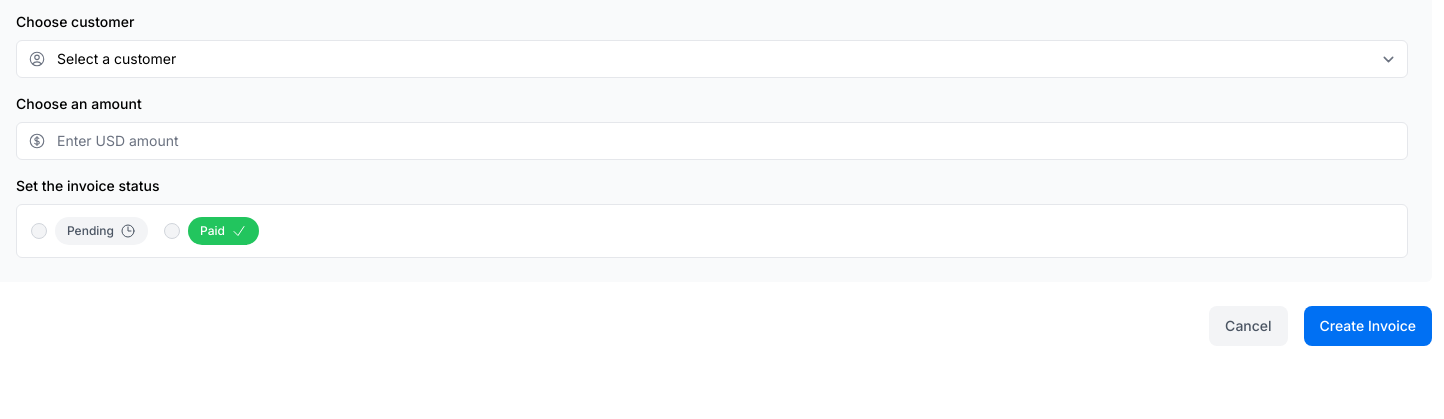
it: Form › Choose an amount 入力欄に 0 を入力したときのエラーを確認する
Select "foo" in the dropdown labelled "Choose customer": [712, 59] box [16,40,1408,78]
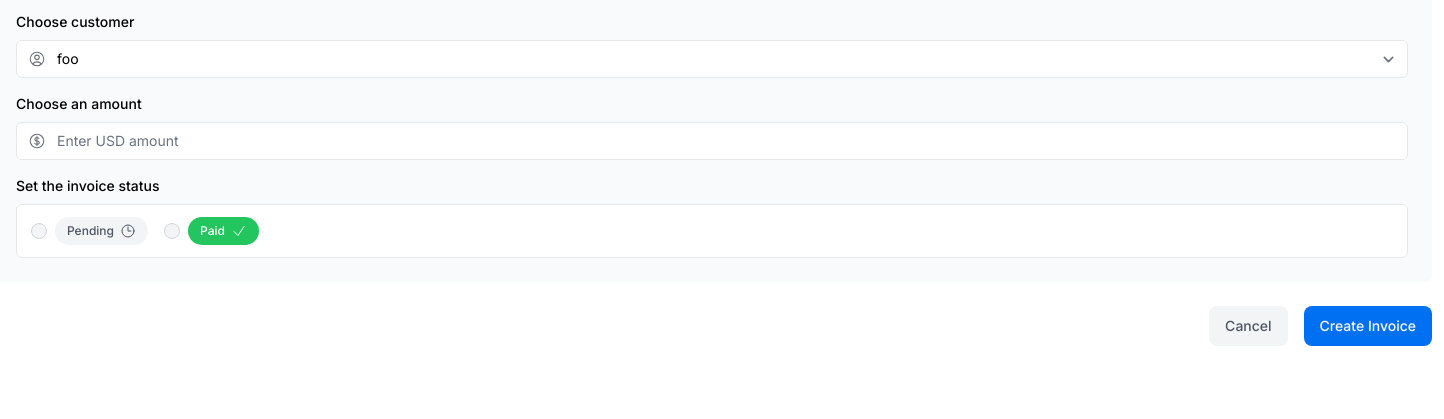
In the number field labelled "Choose an amount": [712, 141] box [16,122,1408,160], type "0"
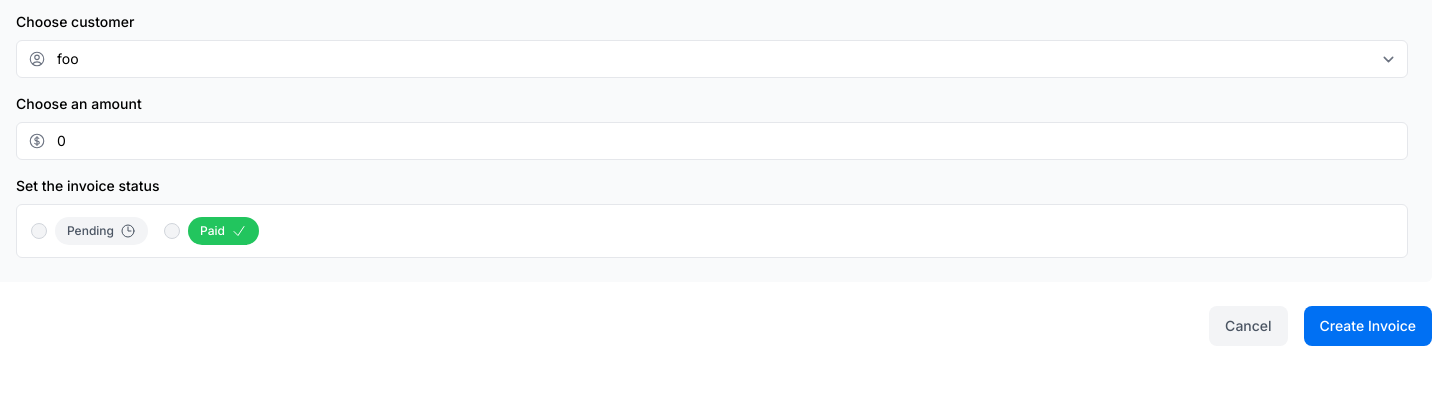
Click the button "Create Invoice": [1368, 326] box [1304,306,1432,346]
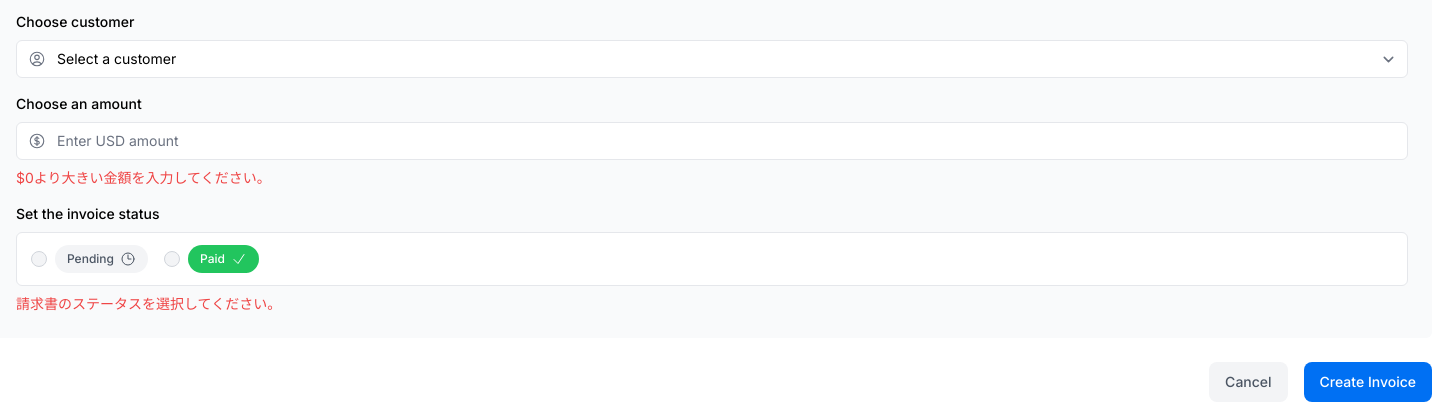
Expected: the text "$0より大きい金額を入力してください。" is shown, [16,169,271,186]
